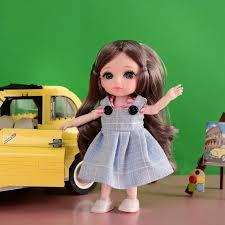car: (0, 85, 99, 195)
doll: (61, 39, 184, 213)
